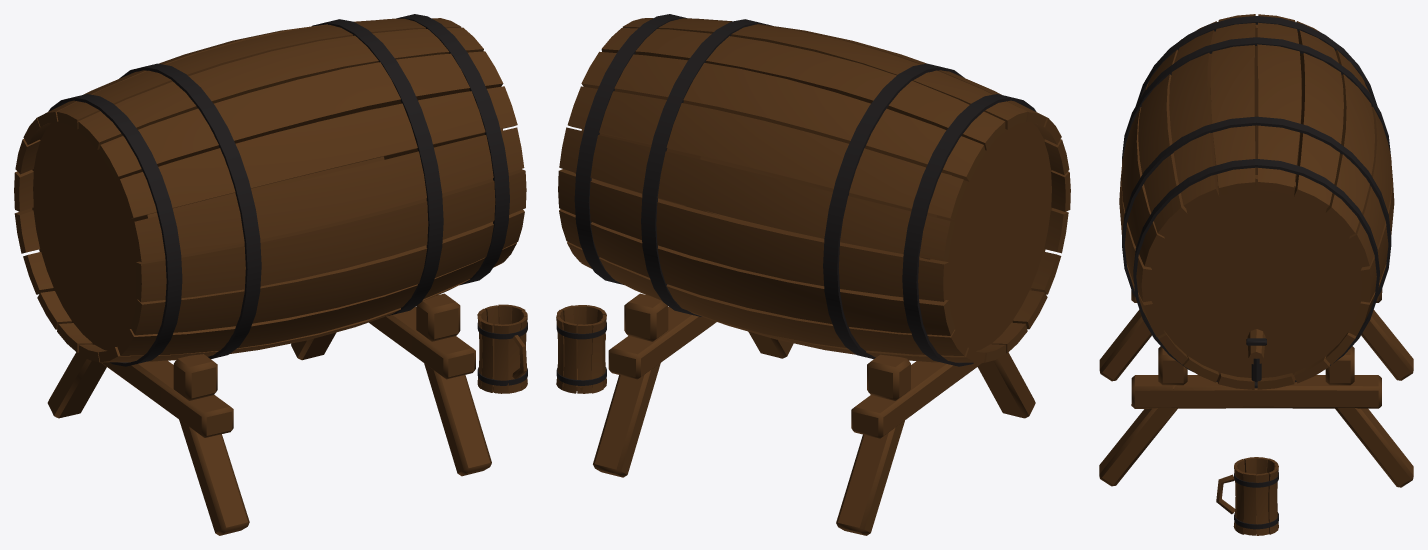
The model's file is zapffass.glb.
The picture shows the model from 3 angles, left to right: view 1: azimuth 30°, elevation 25°; view 2: azimuth 150°, elevation 25°; view 3: azimuth 270°, elevation 25°; orthographic projection. The views are drawn at different scales.
Visible parts, largest first — view 1: zapffass; view 2: zapffass; view 3: zapffass.
Boxes of the visible parts, left/top/right/bottom form: zapffass: left=14, top=14, right=527, bottom=535; zapffass: left=556, top=14, right=1070, bottom=535; zapffass: left=1099, top=14, right=1413, bottom=535.
Bounding box in the file's own units: 1.11 × 0.9325 × 0.7533.
